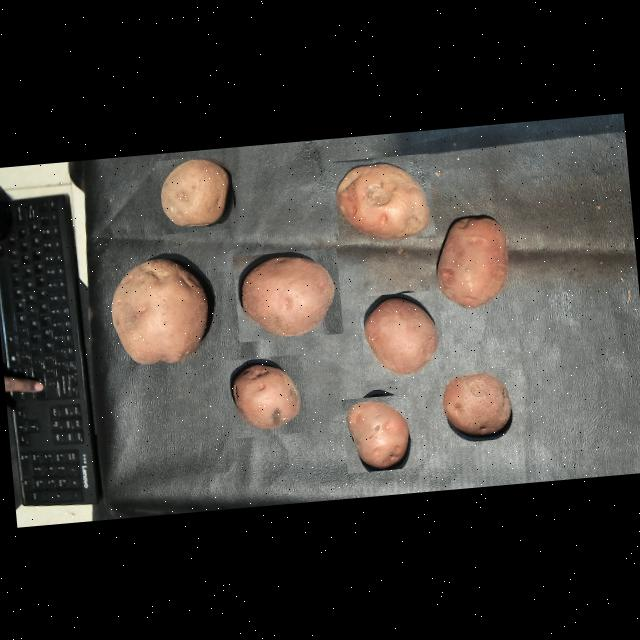Damaged potato: (332, 153, 435, 245)
Diseased-fungal potato: (102, 250, 217, 374), (232, 247, 343, 342), (428, 208, 516, 314), (358, 290, 445, 380), (225, 354, 308, 438), (150, 154, 236, 235), (437, 366, 519, 448), (341, 394, 415, 474)
